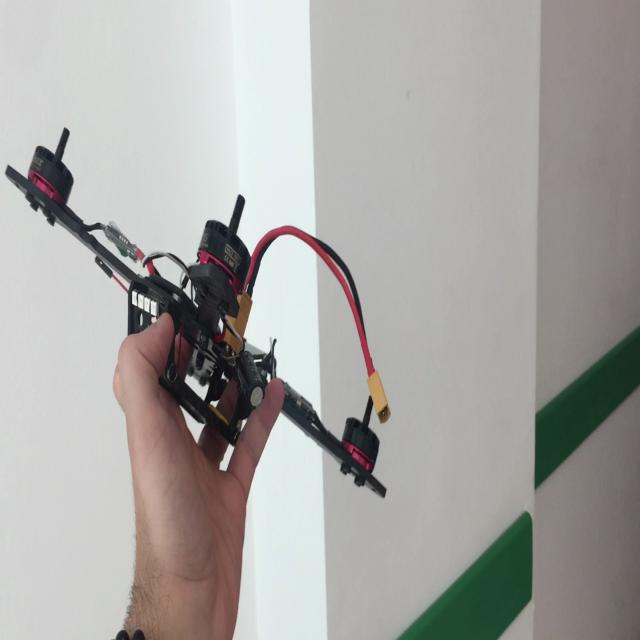drone: (4, 105, 398, 524)
